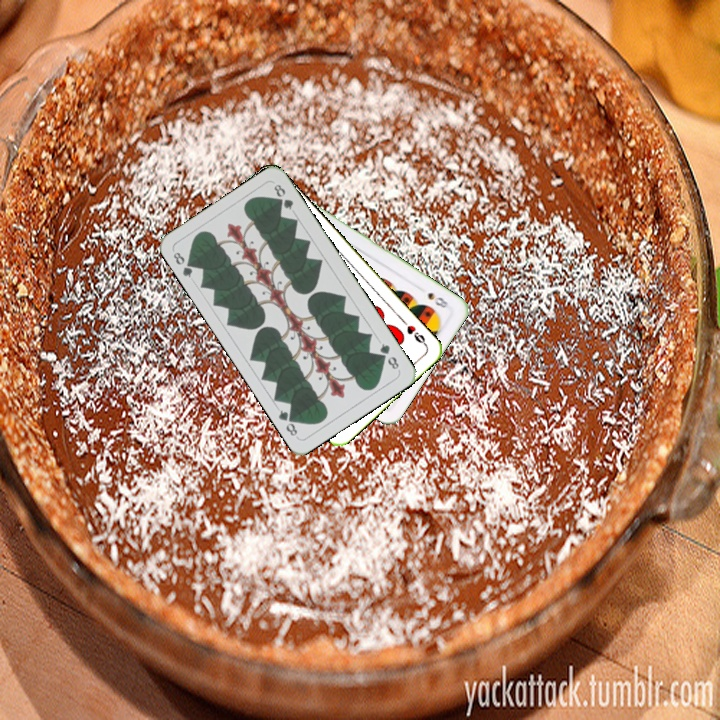G8: (169, 248, 198, 280), (376, 339, 402, 374)
H9: (398, 316, 429, 348)
S8: (423, 288, 454, 311)
